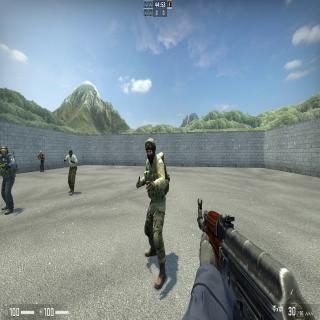CT-Body: (142, 138, 168, 291), (0, 145, 16, 212)
CT-Head: (144, 139, 156, 161), (0, 145, 8, 158)
T-Body: (67, 148, 77, 194), (39, 151, 45, 172)
T-Head: (68, 149, 72, 157), (40, 151, 42, 155)
